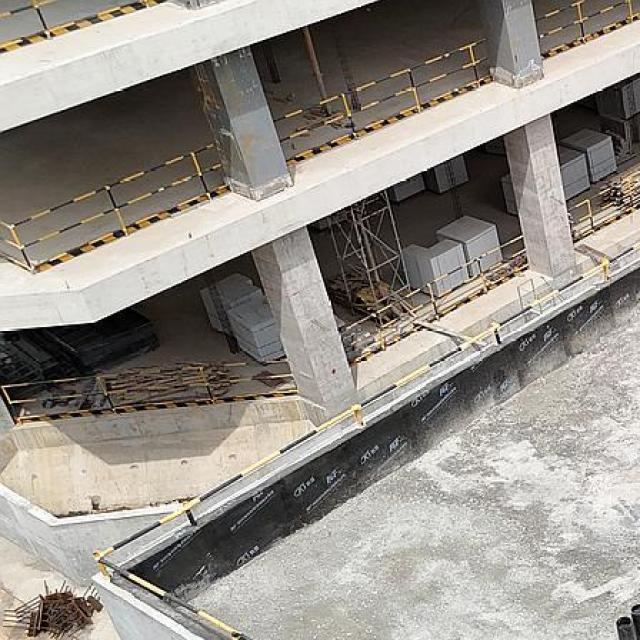edge_guardrail: (88, 240, 640, 640), (0, 139, 224, 270), (271, 36, 490, 144), (338, 233, 526, 351), (0, 358, 293, 421), (567, 170, 640, 230), (533, 0, 633, 41), (0, 0, 64, 31)
